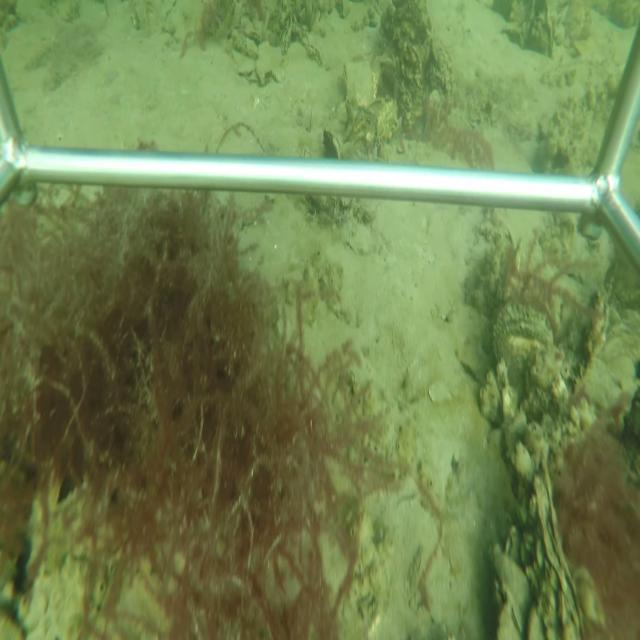Oyster-Closed: (516, 443, 588, 637), (570, 286, 611, 398), (324, 126, 343, 159)
